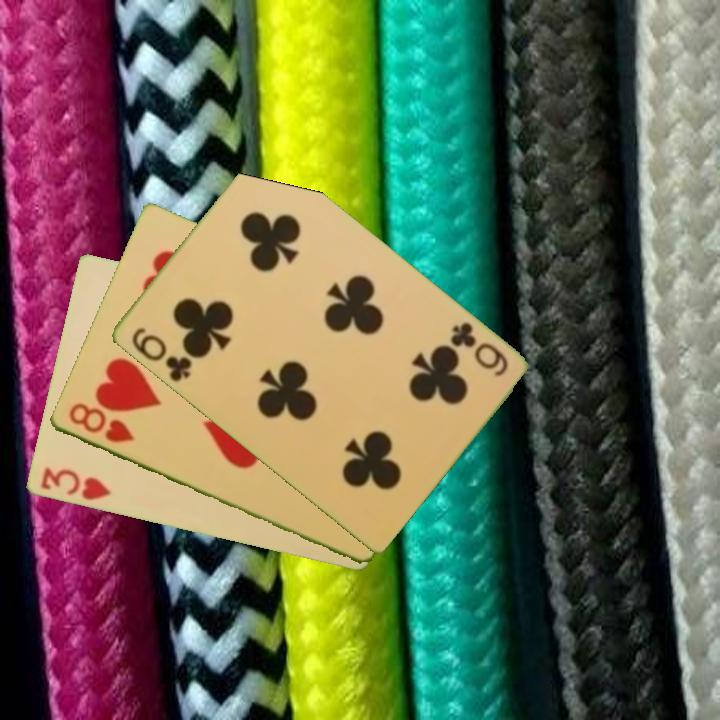3h: (36, 464, 114, 504)
6c: (127, 323, 194, 385), (445, 318, 511, 380)
8h: (64, 399, 137, 446)
